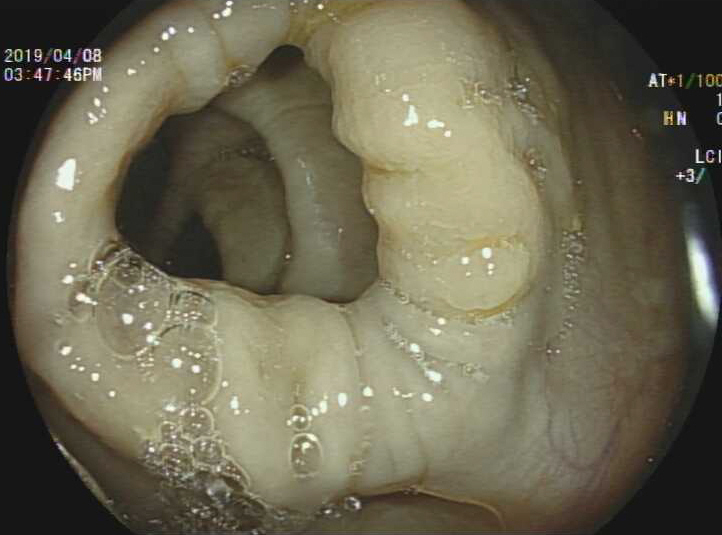others: (433, 238, 532, 312)
